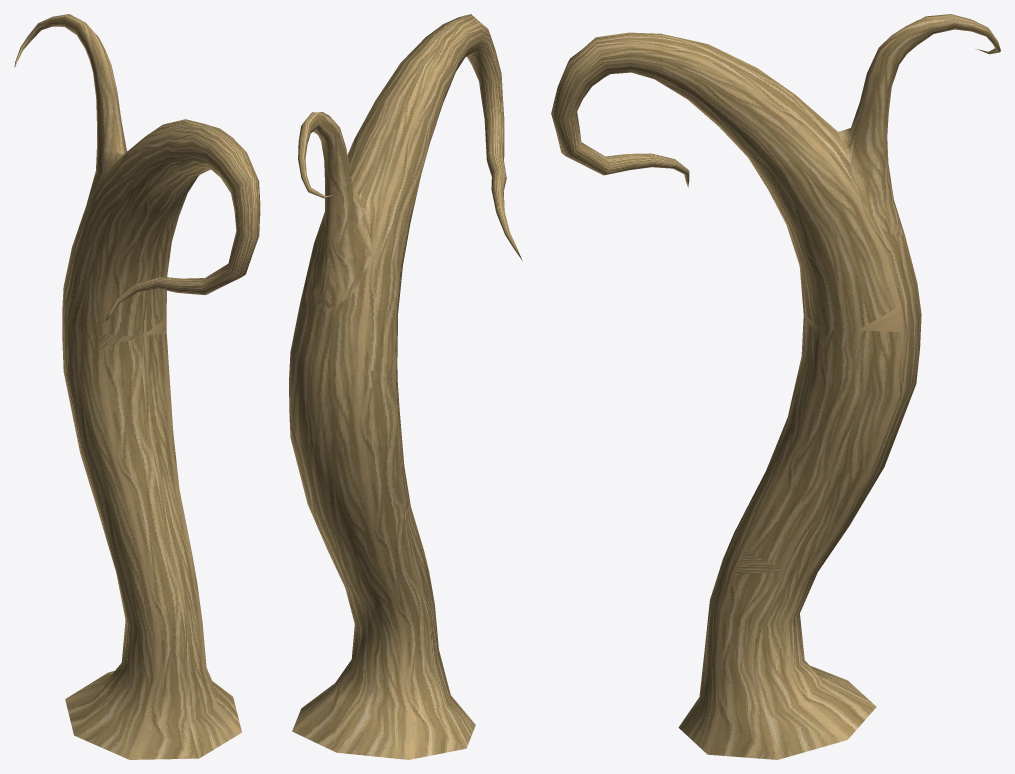
Rendered from EKH_BARRELROOM_PS_JA1_TREE01.fbx.
3 renders of one model, left to right at view 1: azimuth 30°, elevation 25°; view 2: azimuth 150°, elevation 25°; view 3: azimuth 270°, elevation 25°, orthographic. The views are drawn at different scales.
Parts seen in each view (by area): view 1: EKH_BARRELROOM_PS_JA1_TREE01; view 2: EKH_BARRELROOM_PS_JA1_TREE01; view 3: EKH_BARRELROOM_PS_JA1_TREE01.
Boxes of the visible parts, bbox=[...] form: EKH_BARRELROOM_PS_JA1_TREE01: bbox=[14, 14, 260, 759]; EKH_BARRELROOM_PS_JA1_TREE01: bbox=[289, 14, 522, 759]; EKH_BARRELROOM_PS_JA1_TREE01: bbox=[551, 14, 1000, 759].
Bounding box in the file's own units: 9462 × 34326 × 19713.
1 material, 1 textured.
